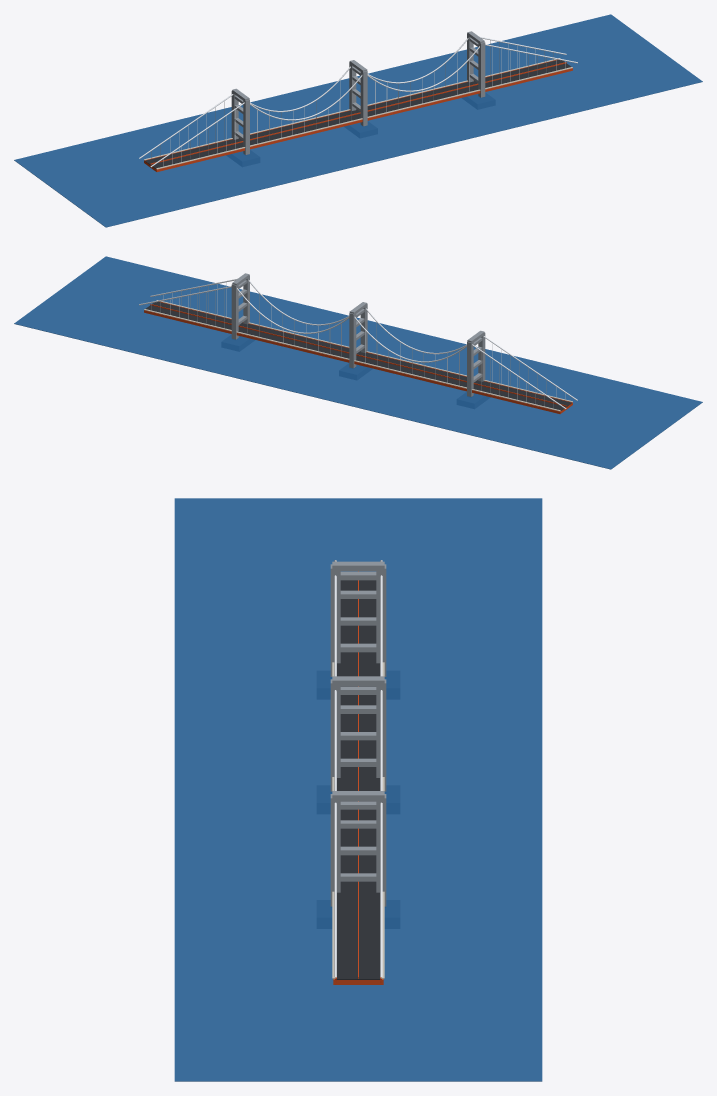
File: yingwuzhou-yangtze-river-bridge.glb
The picture shows the model from 3 angles, top to bottom: view 1: azimuth 30°, elevation 25°; view 2: azimuth 150°, elevation 25°; view 3: azimuth 270°, elevation 25°; orthographic projection. The views are drawn at different scales.
Parts seen in each view (by area): view 1: River-Surface, Road-Surface, Steel-Box-Girder, Main-Cable-North, Walkway-North, Main-Cable-South, Center-Barrier, Walkway-South, Central-Pylon-Column-North, East-Pylon-Column-North, Edge-Girder-South, West-Pylon-Column-North; view 2: River-Surface, Road-Surface, Steel-Box-Girder, Main-Cable-South, Walkway-South, Main-Cable-North, Center-Barrier, Walkway-North, Central-Pylon-Column-South, East-Pylon-Column-South, Edge-Girder-North, West-Pylon-Column-South; view 3: River-Surface, Road-Surface, Main-Cable-South, Main-Cable-North, West-Pylon-Column-North, West-Pylon-Column-South, Central-Pylon-Column-South, Central-Pylon-Column-North, East-Pylon-Column-South, East-Pylon-Column-North.
Boxes of the visible parts, x1,y1,x2,y2 form: River-Surface: (14,14,702,227); Road-Surface: (145,60,571,168); Steel-Box-Girder: (144,68,572,171); Main-Cable-North: (150,44,577,167); Walkway-North: (156,67,572,169); Main-Cable-South: (139,36,566,158); Center-Barrier: (150,62,566,164); Walkway-South: (144,58,560,160); Central-Pylon-Column-North: (360,70,367,126); East-Pylon-Column-North: (478,42,485,97); Edge-Girder-South: (144,59,558,160); West-Pylon-Column-North: (243,99,249,154); River-Surface: (14,256,702,469); Road-Surface: (145,302,571,410); Steel-Box-Girder: (144,310,572,413); Main-Cable-South: (139,286,566,409); Walkway-South: (144,309,560,411); Main-Cable-North: (150,278,577,400); Center-Barrier: (150,304,566,406); Walkway-North: (156,300,572,402); Central-Pylon-Column-South: (349,312,356,368); East-Pylon-Column-South: (231,284,238,339); Edge-Girder-North: (158,301,572,402); West-Pylon-Column-South: (467,341,473,396); River-Surface: (174,498,542,1081); Road-Surface: (336,580,379,979); Main-Cable-South: (380,560,382,977); Main-Cable-North: (334,560,336,977); West-Pylon-Column-North: (330,564,340,676); West-Pylon-Column-South: (376,564,386,676); Central-Pylon-Column-South: (376,679,386,791); Central-Pylon-Column-North: (330,679,340,791); East-Pylon-Column-South: (376,794,386,906); East-Pylon-Column-North: (330,794,340,906).
Size of what is drawn, in the model's own units: 330 by 33.55 by 88.
